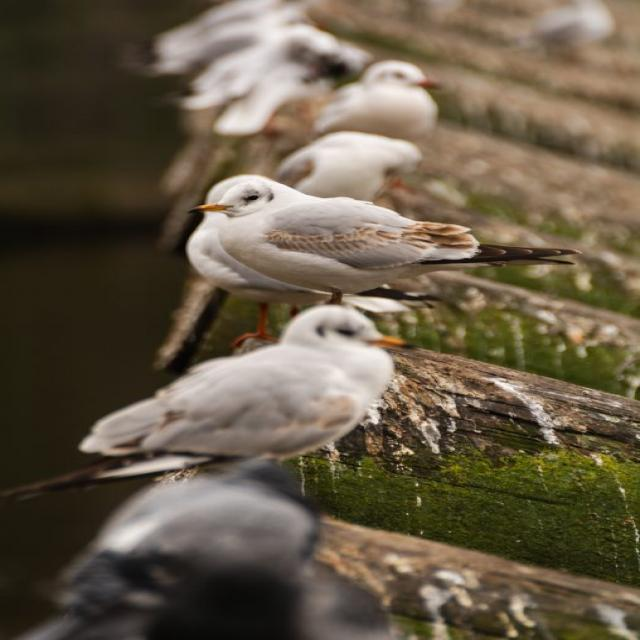brid: (114, 318, 428, 490), (169, 176, 514, 306), (174, 118, 516, 224), (275, 60, 529, 154)
